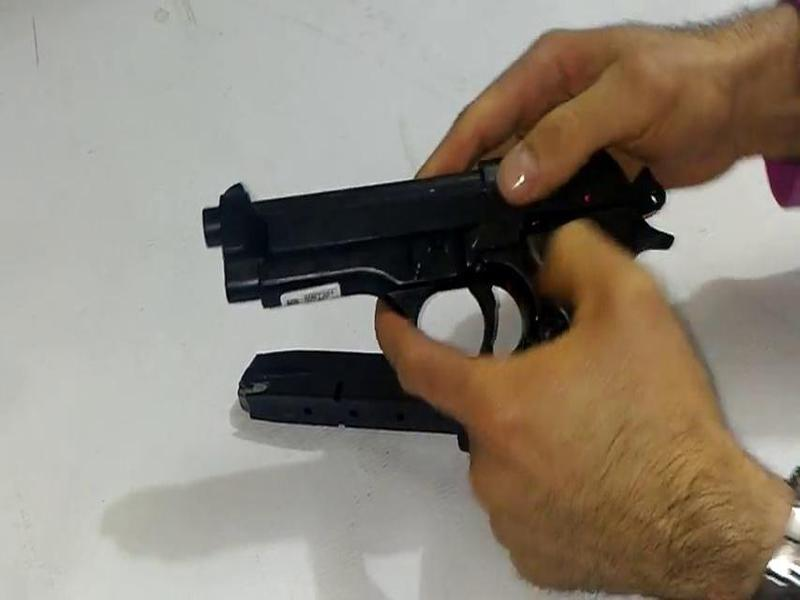Pistola: (171, 124, 696, 479)
